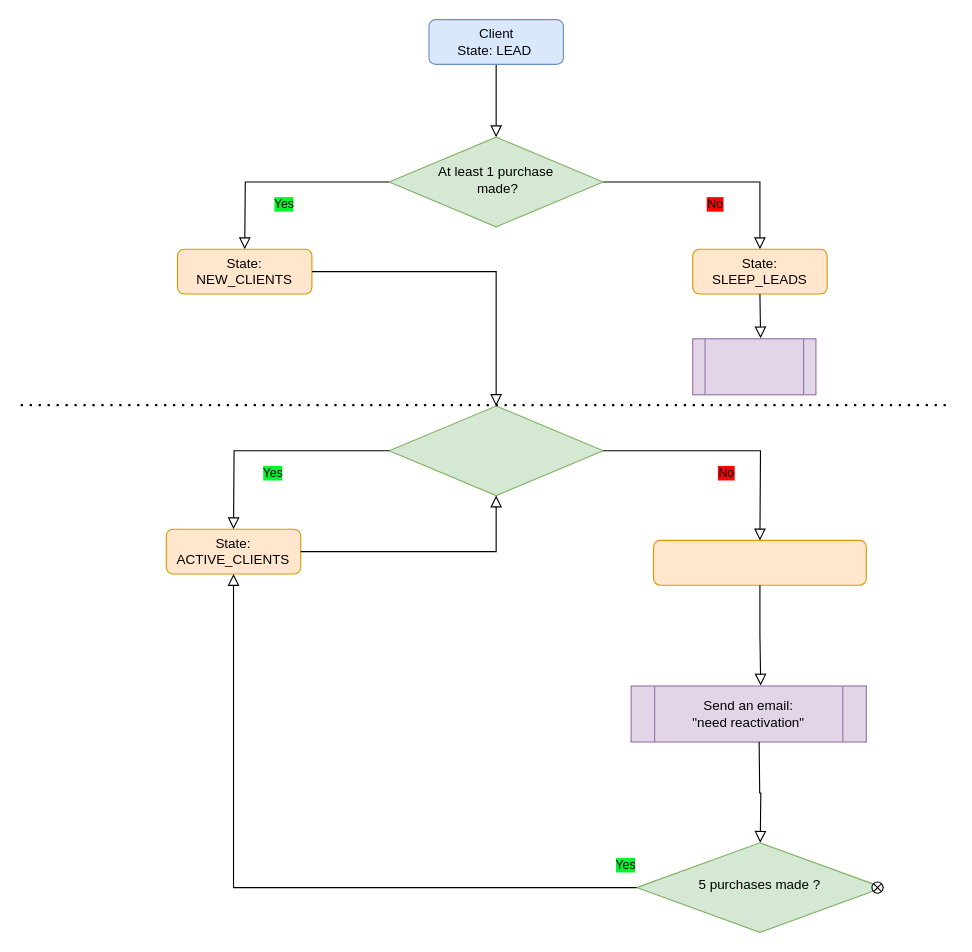
Image size: 972x952. Some labels were removed from this diagram. The shapes that lost their labels are listed below. From the top down, each one's centre as x and y in pixels, then its label:
the point at 754,366: Send an email: "sleep"
the point at 495,450: 5 purchases made in 30 sec?
the point at 759,562: State: NEED_REACTIVATION_CLIENT
